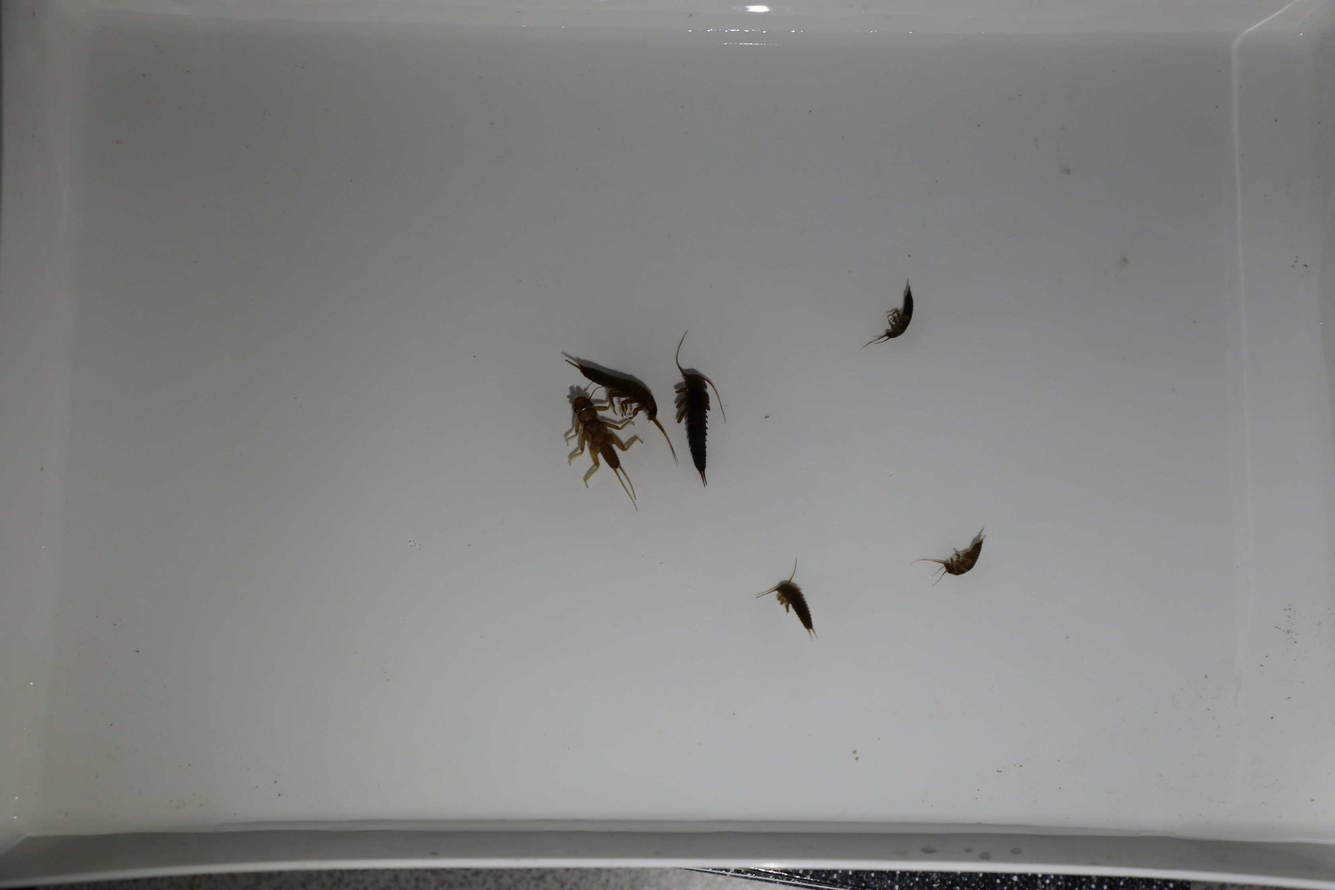Stonefly: (561, 352, 675, 454), (558, 390, 636, 500), (664, 337, 717, 482), (898, 537, 996, 589), (864, 271, 923, 350), (756, 561, 819, 634)
